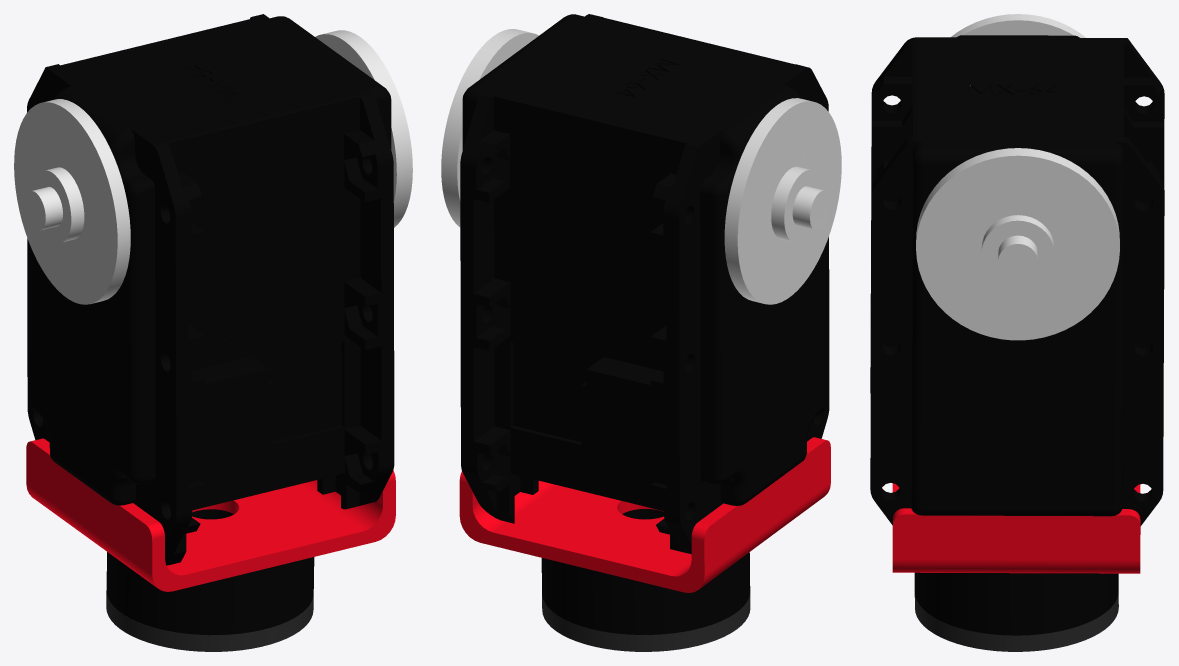
3 views of the same model, side by side, from view 1: azimuth 30°, elevation 25°; view 2: azimuth 150°, elevation 25°; view 3: azimuth 270°, elevation 25° (orthographic). The views are drawn at different scales.
Visible parts, largest first — view 1: link_4; view 2: link_4; view 3: link_4.
Part boxes in pixels (x1,y1,x2,y2): link_4: [14, 14, 412, 651]; link_4: [441, 14, 841, 651]; link_4: [870, 14, 1164, 651].
Bounding box in the file's own units: 0.0553 × 0.0404 × 0.0797.
